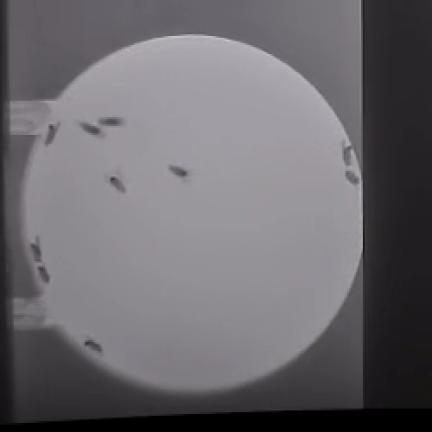fly: (106, 171, 126, 194), (83, 337, 103, 354), (45, 123, 60, 145), (78, 123, 103, 136), (30, 236, 41, 262), (99, 117, 124, 127), (170, 166, 190, 178), (343, 141, 352, 165), (39, 265, 50, 284), (346, 170, 359, 185)
